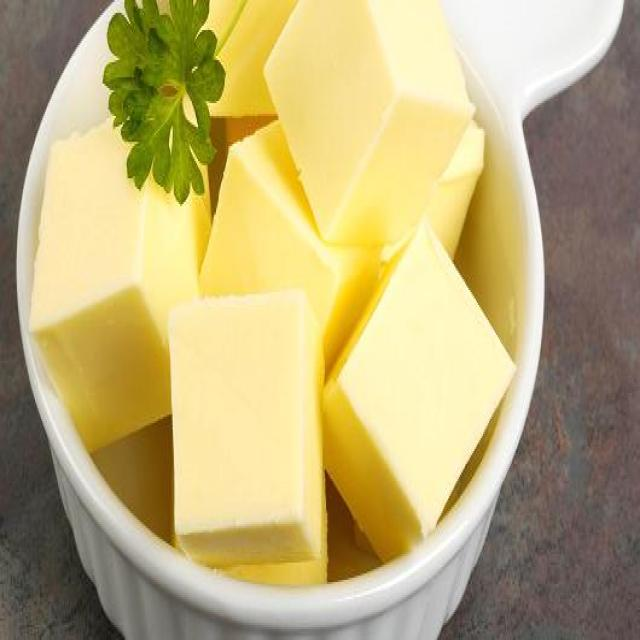Butter: (321, 236, 510, 548), (258, 0, 468, 264), (36, 120, 207, 426), (198, 110, 378, 386), (166, 294, 322, 588)
